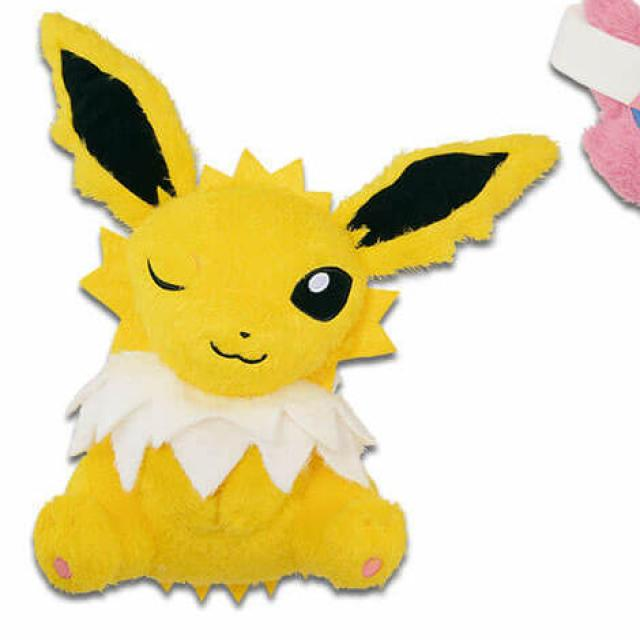Jolteon: (0, 104, 501, 640)
